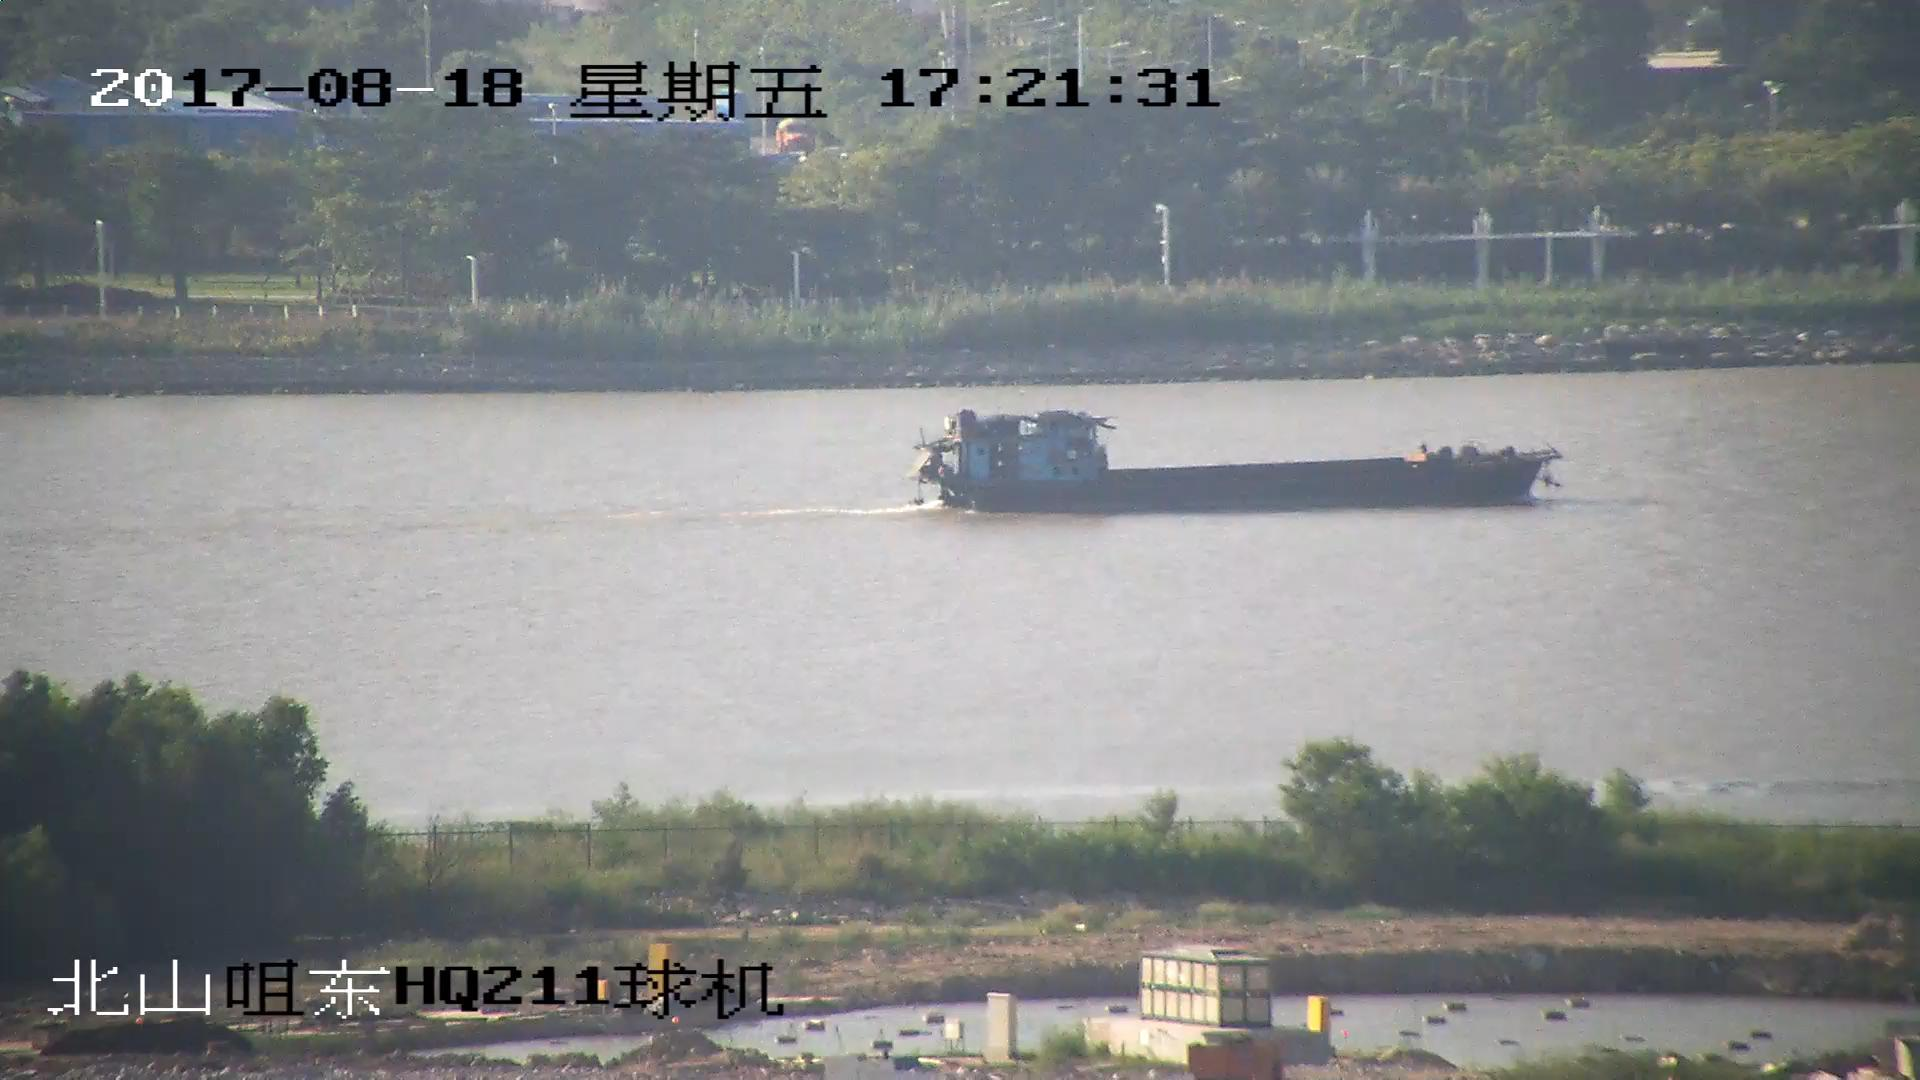Ship: (916, 415, 1560, 512)
